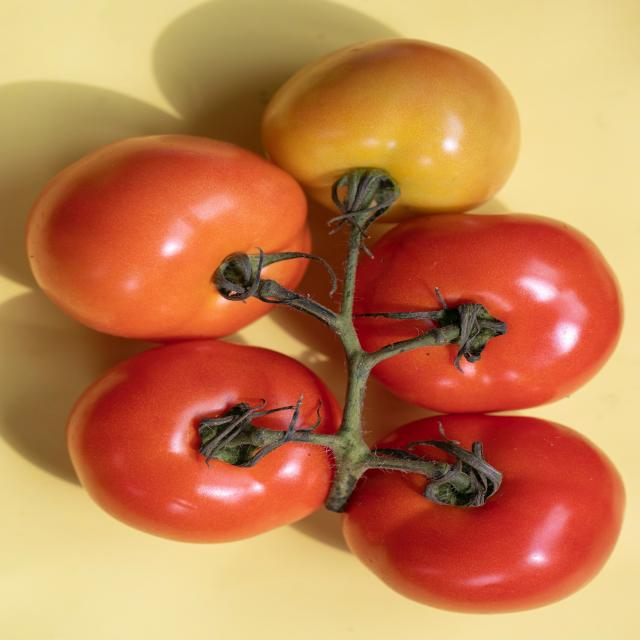Tomato: (44, 333, 360, 560), (20, 132, 308, 348), (341, 410, 616, 614), (364, 216, 621, 410)
